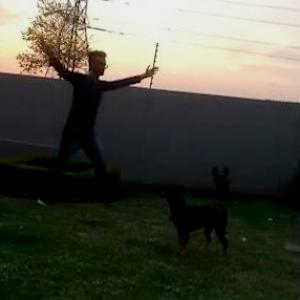takeoff: (36, 41, 158, 198)
